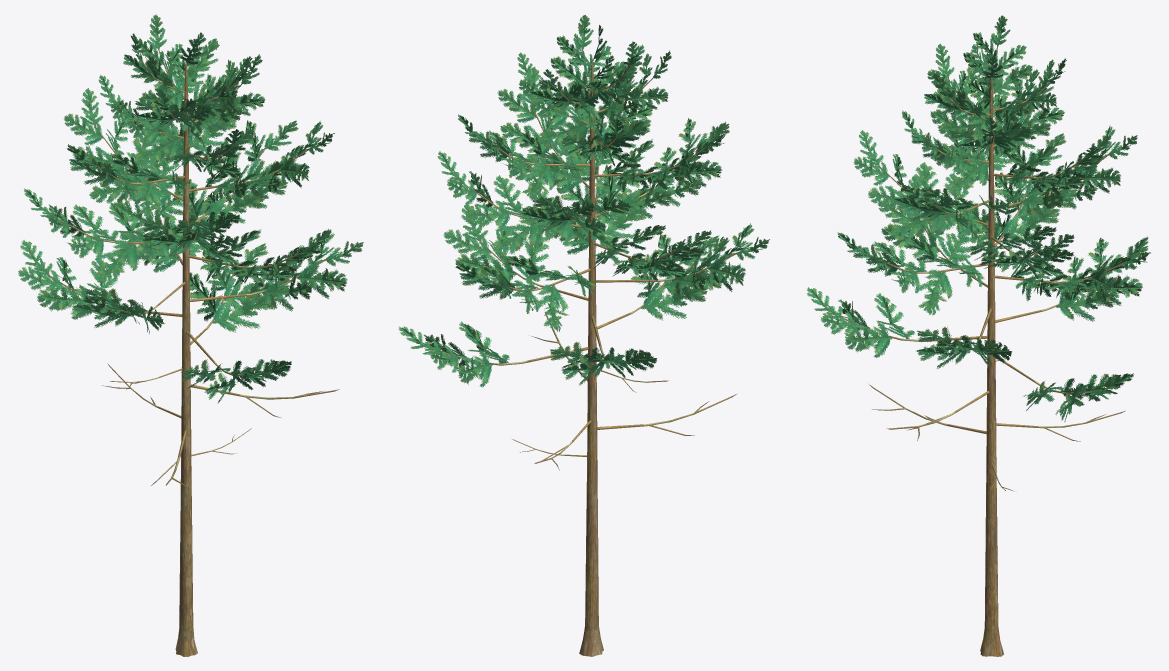
Rendered from MS_ConiferB01.fbx.
3 renders of one model, left to right at view 1: azimuth 30°, elevation 25°; view 2: azimuth 150°, elevation 25°; view 3: azimuth 270°, elevation 25°, orthographic.
Visible parts, largest first — view 1: MS_ConiferB01; view 2: MS_ConiferB01; view 3: MS_ConiferB01.
Part boxes in pixels (bbox=[...]): MS_ConiferB01: bbox=[18, 14, 363, 656]; MS_ConiferB01: bbox=[398, 15, 769, 656]; MS_ConiferB01: bbox=[806, 15, 1150, 656].
Bounding box in the file's own units: 472 × 945 × 490.
